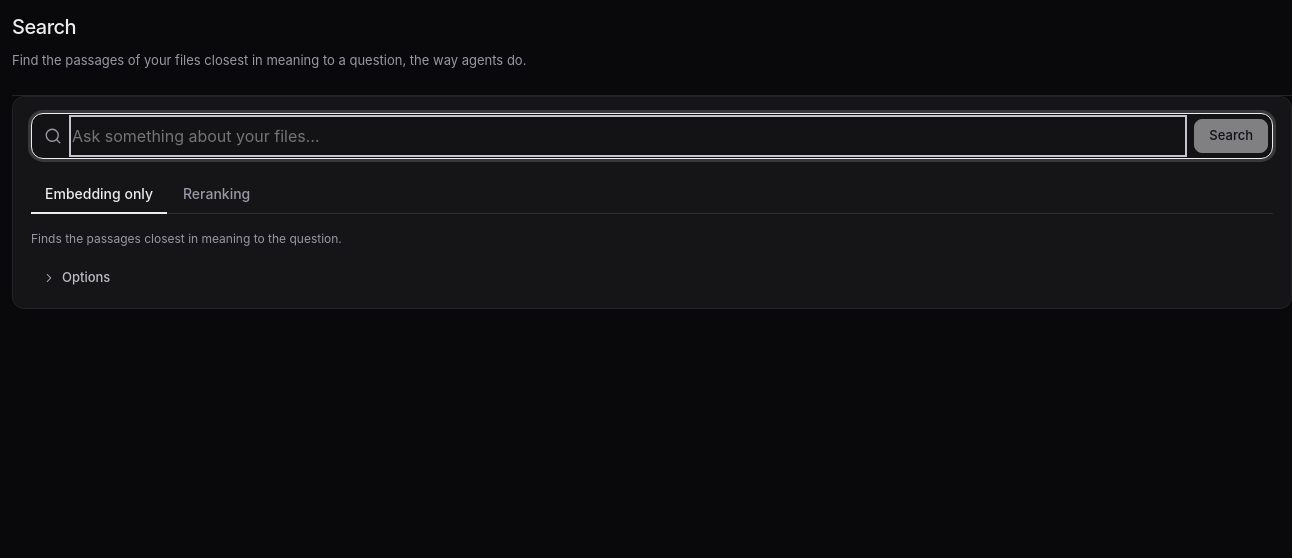
Test: SearchPage › refuses candidates that do not outnumber the final results
The width and height of the screenshot is (1292, 558).
Click the tab "Reranking" at (217, 194), box [169, 175, 264, 214]
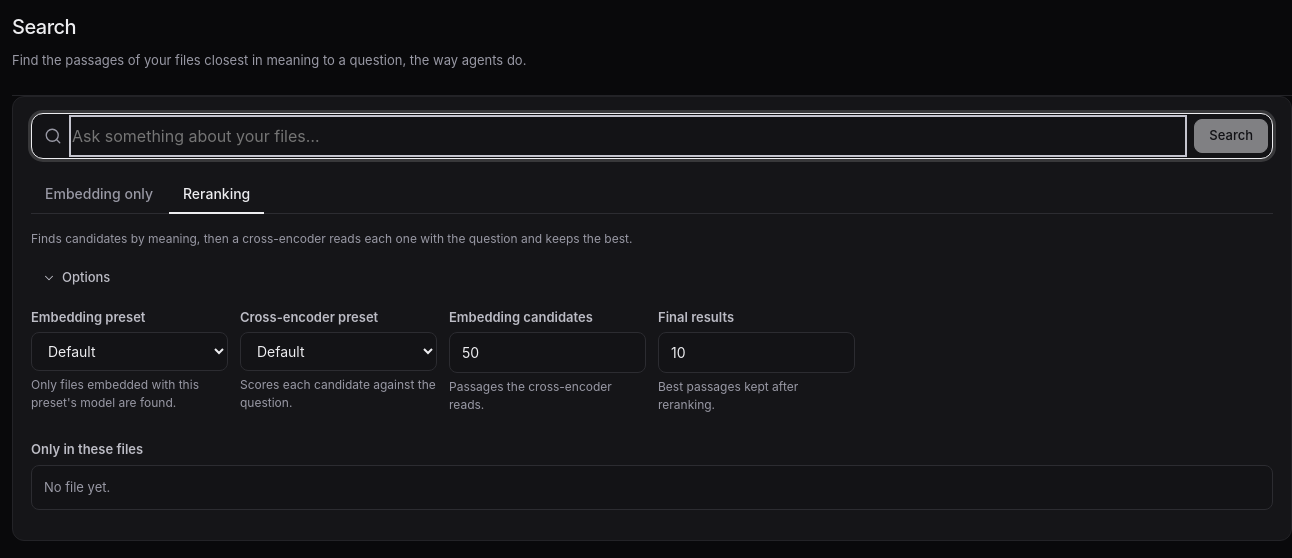
Type "green tea" into the field named "Search" at (628, 136), box [72, 118, 1184, 154]
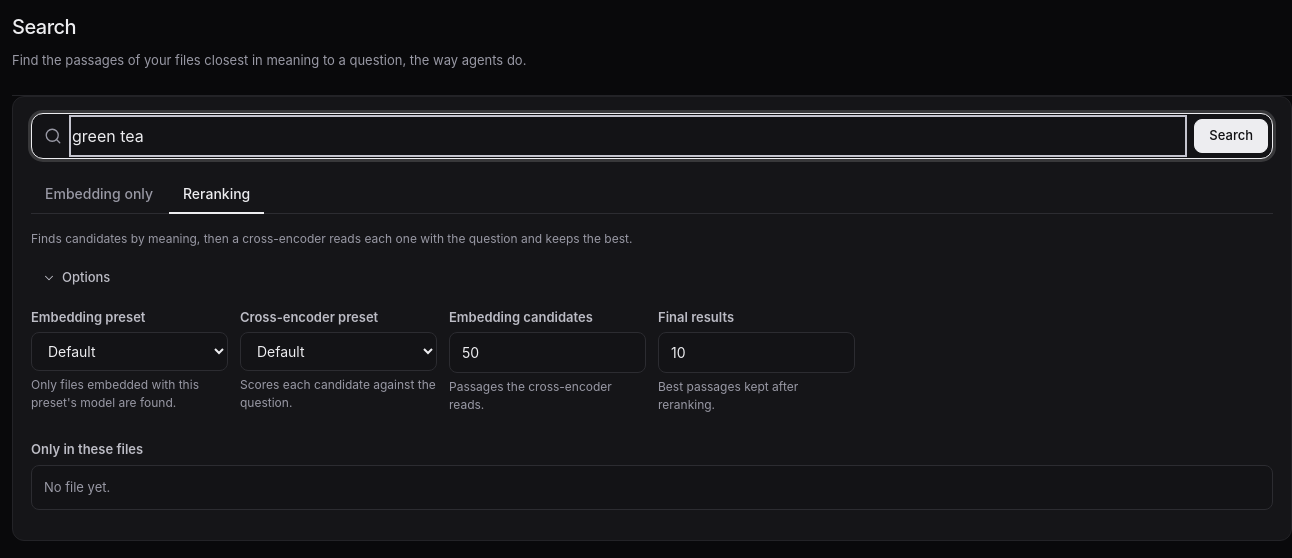
Replace the text in the number field labelled "Embedding candidates" with "10" at (548, 353), box [449, 332, 646, 373]
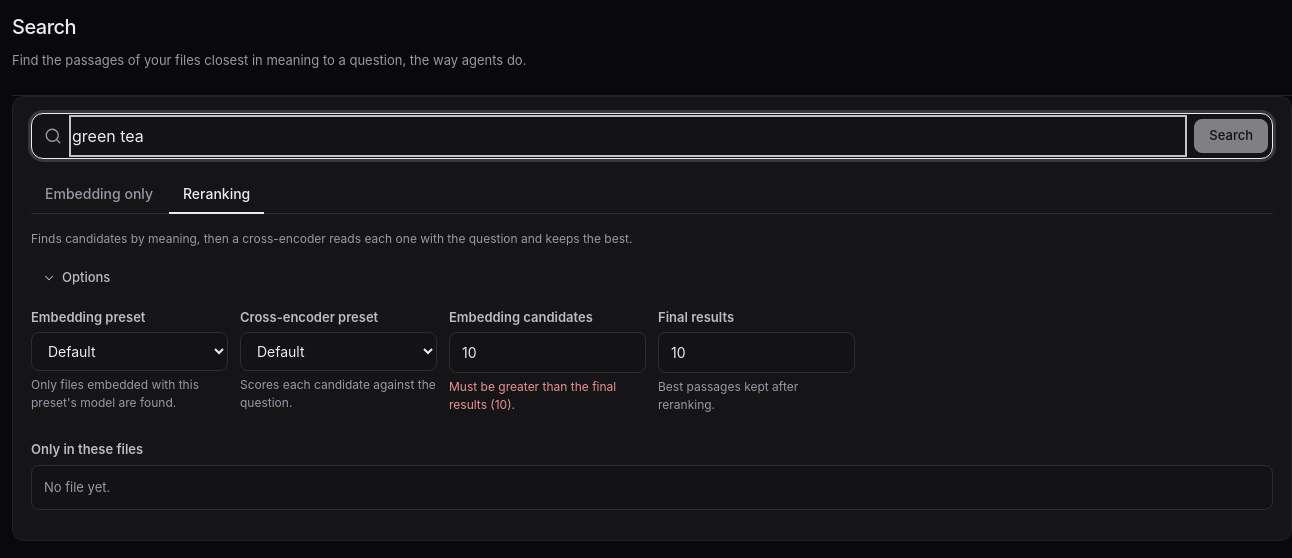
Now the text "Must be greater than the final results (10)." is shown, box [449, 379, 616, 412]
Now the button "Search" is disabled, box [1194, 119, 1268, 153]
Replace the text in the number field labelled "Embedding candidates" with "11" at (548, 353), box [449, 332, 646, 373]
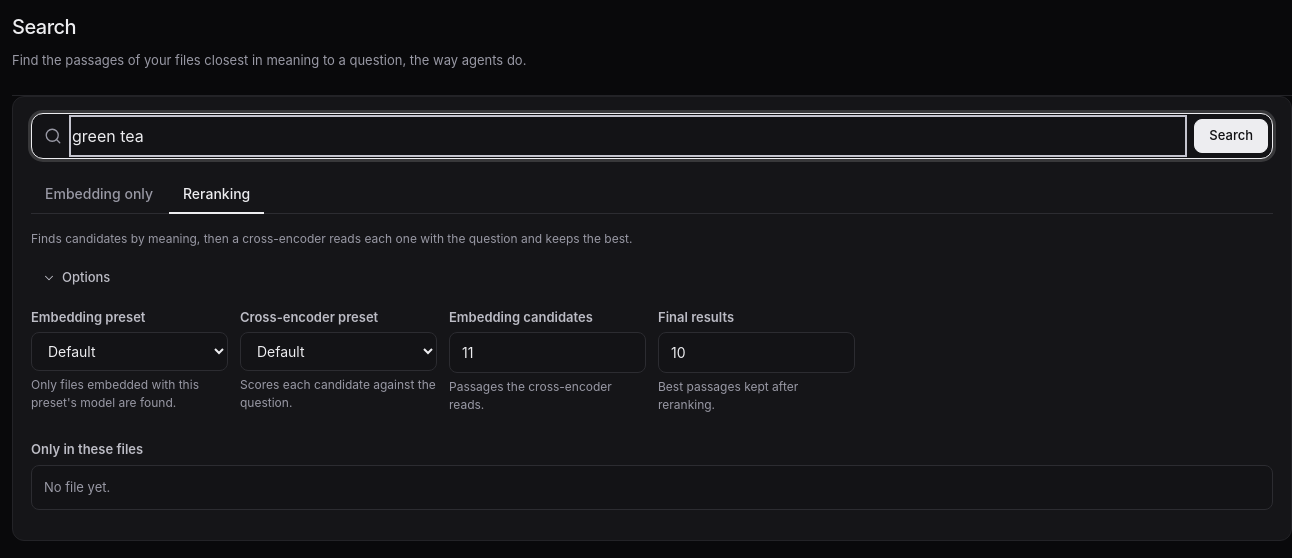
Now the button "Search" is enabled, box [1194, 119, 1268, 153]
